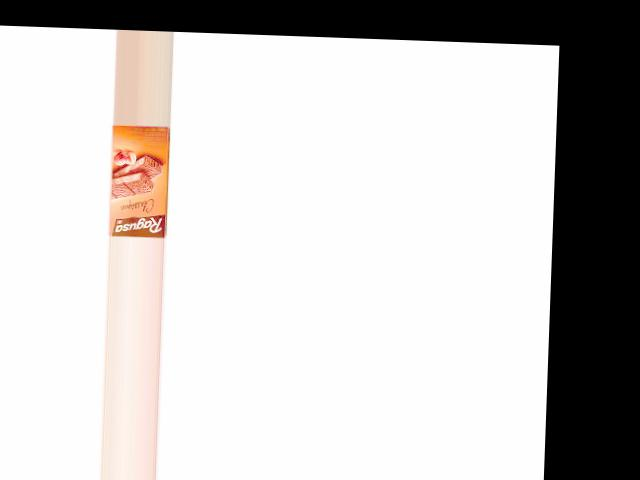chocolate: (101, 123, 173, 237)
